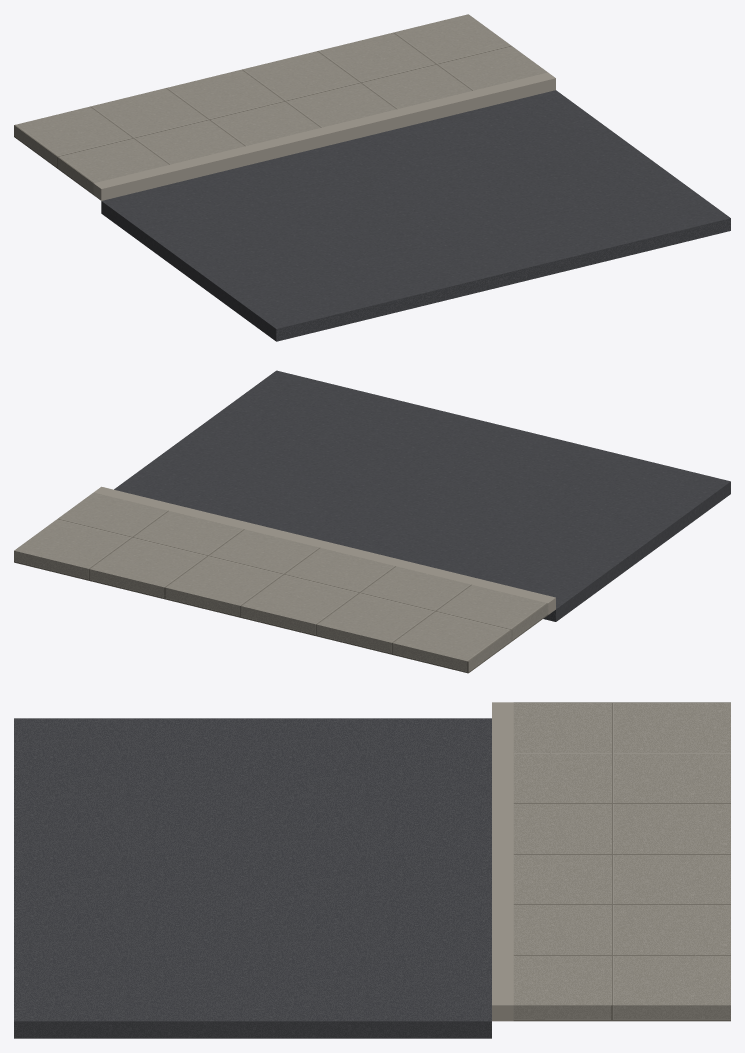
The model's file is MS_RD_07_DeadEnd_6m.glb.
3 views of the same model, one above another, from view 1: azimuth 30°, elevation 25°; view 2: azimuth 150°, elevation 25°; view 3: azimuth 270°, elevation 25° (orthographic). The views are drawn at different scales.
Visible parts, largest first — view 1: Asphalt.007, Concrete, End_Curb; view 2: Asphalt.007, Concrete, End_Curb; view 3: Asphalt.007, Concrete, End_Curb.
Boxes of the visible parts, x1,y1,x2,y2 form: Asphalt.007: (101, 90, 730, 341); Concrete: (14, 14, 547, 194); End_Curb: (93, 72, 555, 200); Asphalt.007: (114, 370, 730, 621); Concrete: (14, 492, 548, 673); End_Curb: (94, 486, 555, 614); Asphalt.007: (14, 718, 491, 1038); Concrete: (513, 702, 730, 1021); End_Curb: (492, 702, 513, 1021).
Size of the model in its own units: 6 by 0.31 by 6.
Materials: 3 (2 with a texture image).
